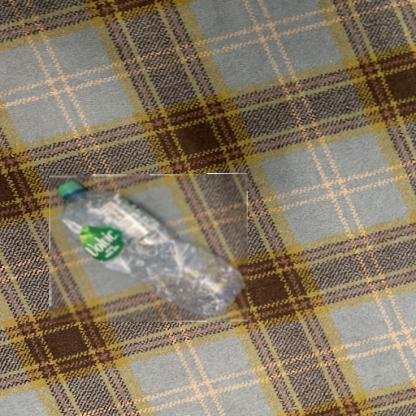plastic-bottles: (50, 175, 250, 324)
